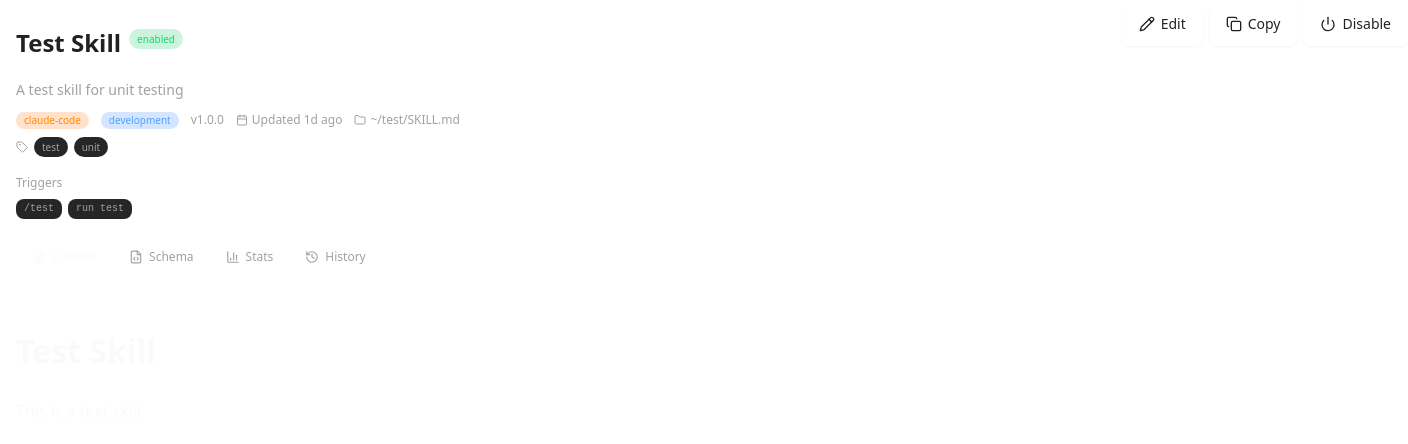
Test: SkillDetail › should switch to history tab and show version entries
The image size is (1408, 444).
Click the tab "History": x=336, y=258 [289, 236, 382, 280]
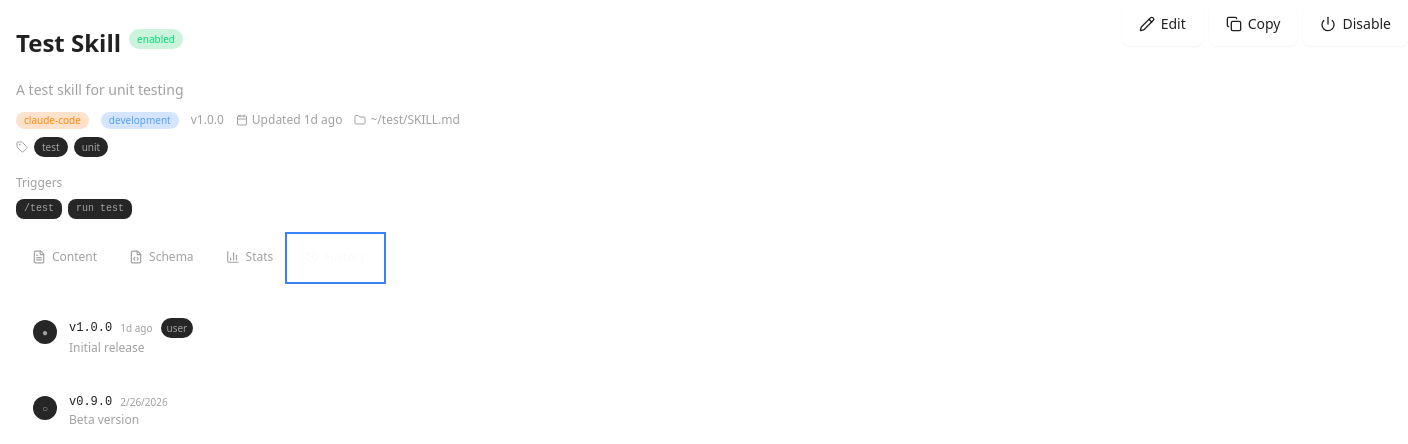
Now the text "Initial release" is shown, box [69, 338, 145, 356]
Now the text "Beta version" is shown, box [69, 410, 139, 428]
Now the text "v0.9.0" is shown, box [69, 394, 112, 410]
